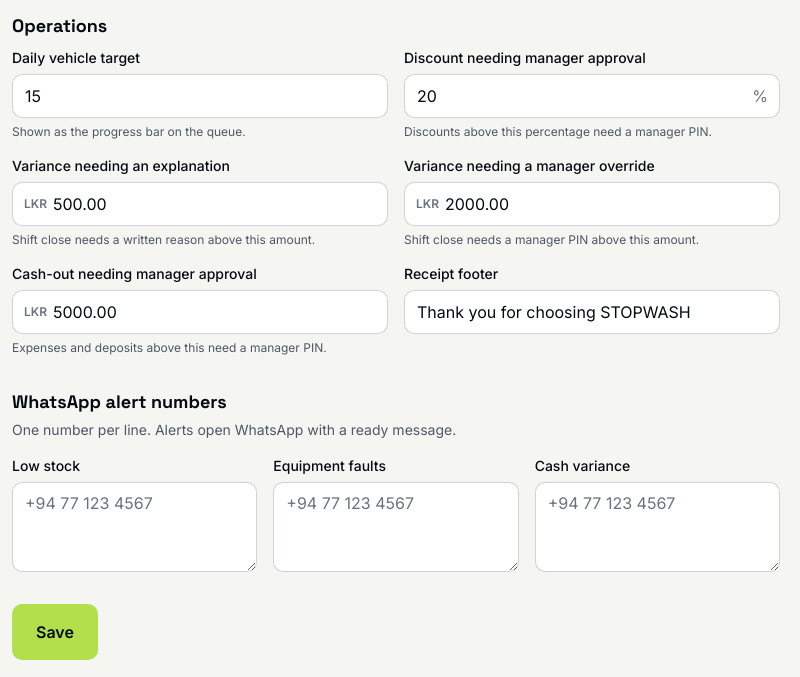
it: GeneralSettingsForm › blocks an override threshold below the explanation threshold
Replace the text in the field labelled "Variance needing a manager override" with "100" at coordinates (592, 204), box [404,182,780,226]
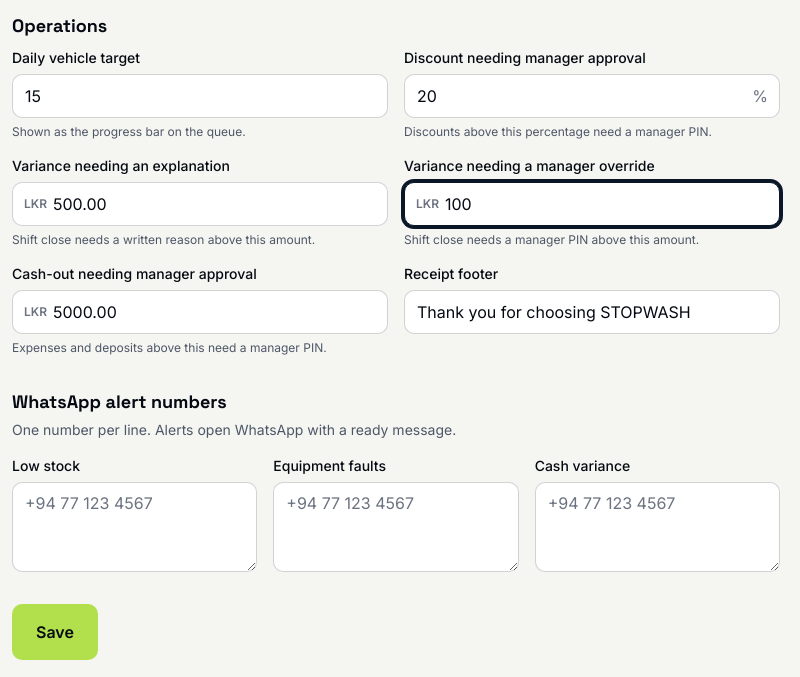
Click the button "Save" at coordinates (55, 632), box [12,604,98,660]
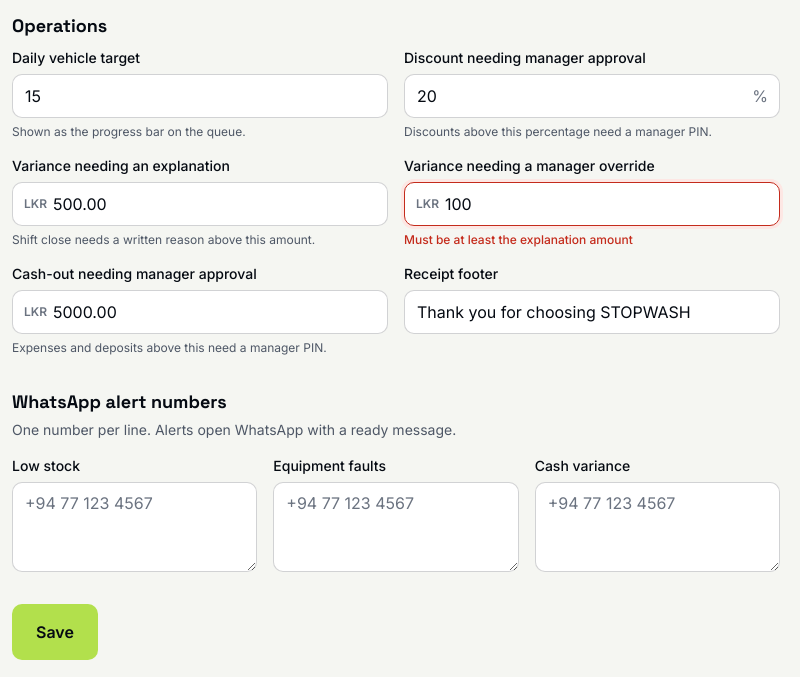
Expected: the text "Must be at least the explanation amount" is shown, [404,232,633,247]
